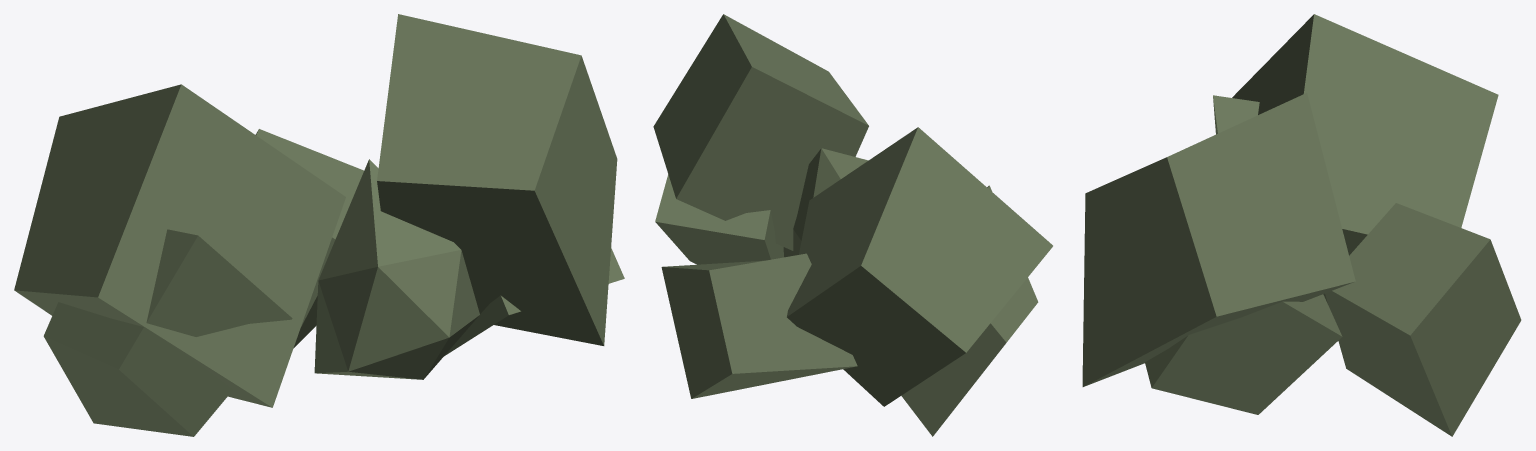
File: rubble_01.glb
The picture shows the model from 3 angles, left to right: view 1: azimuth 30°, elevation 25°; view 2: azimuth 150°, elevation 25°; view 3: azimuth 270°, elevation 25°; orthographic projection. The views are drawn at different scales.
Parts seen in each view (by area): view 1: rubble_01; view 2: rubble_01; view 3: rubble_01.
Boxes of the visible parts, x1,y1,x2,y2 form: rubble_01: [14, 14, 624, 436]; rubble_01: [653, 14, 1052, 436]; rubble_01: [1082, 14, 1521, 436].
Bounding box in the file's own units: 2.66 × 1.85 × 2.08.
